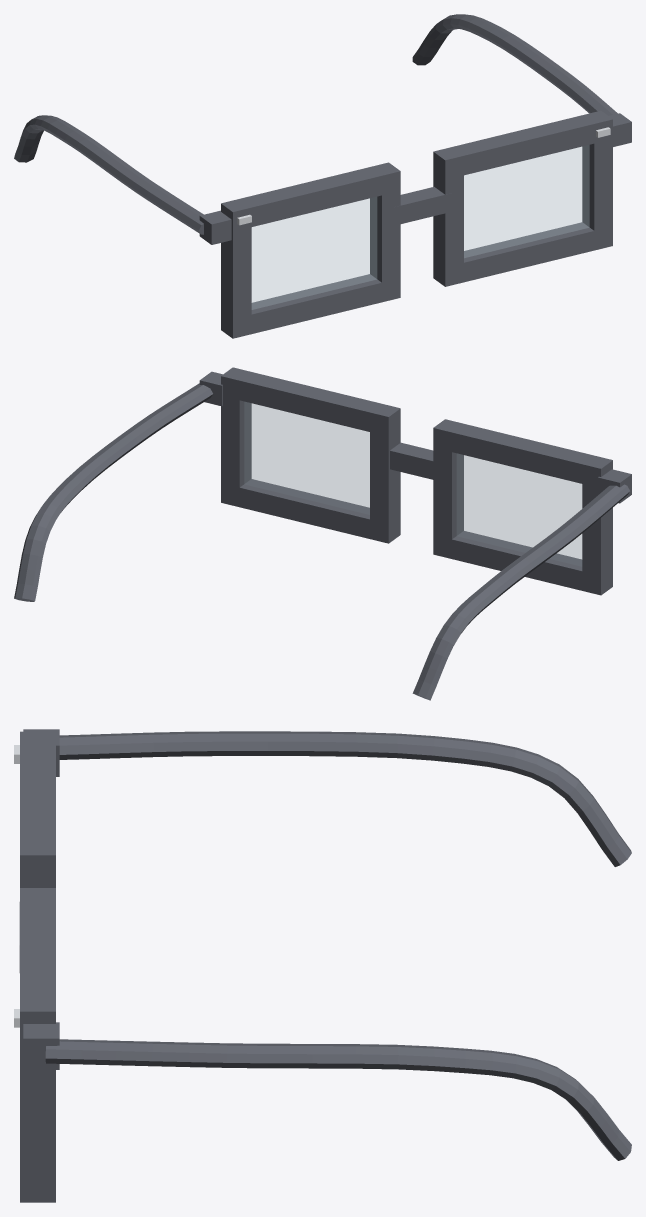
Rendered from oculos_quadrado.glb.
3 views of the same model, one above another, from view 1: azimuth 30°, elevation 25°; view 2: azimuth 150°, elevation 25°; view 3: azimuth 270°, elevation 25° (orthographic). The views are drawn at different scales.
Visible parts, largest first — view 1: Oculos_Quadrado; view 2: Oculos_Quadrado; view 3: Oculos_Quadrado.
Part boxes in pixels (left/top/right/bottom): Oculos_Quadrado: left=14, top=14, right=631, bottom=338; Oculos_Quadrado: left=14, top=367, right=631, bottom=700; Oculos_Quadrado: left=14, top=729, right=631, bottom=1202.
Size of the model in its own units: 0.8992 by 0.245 by 0.7185.
